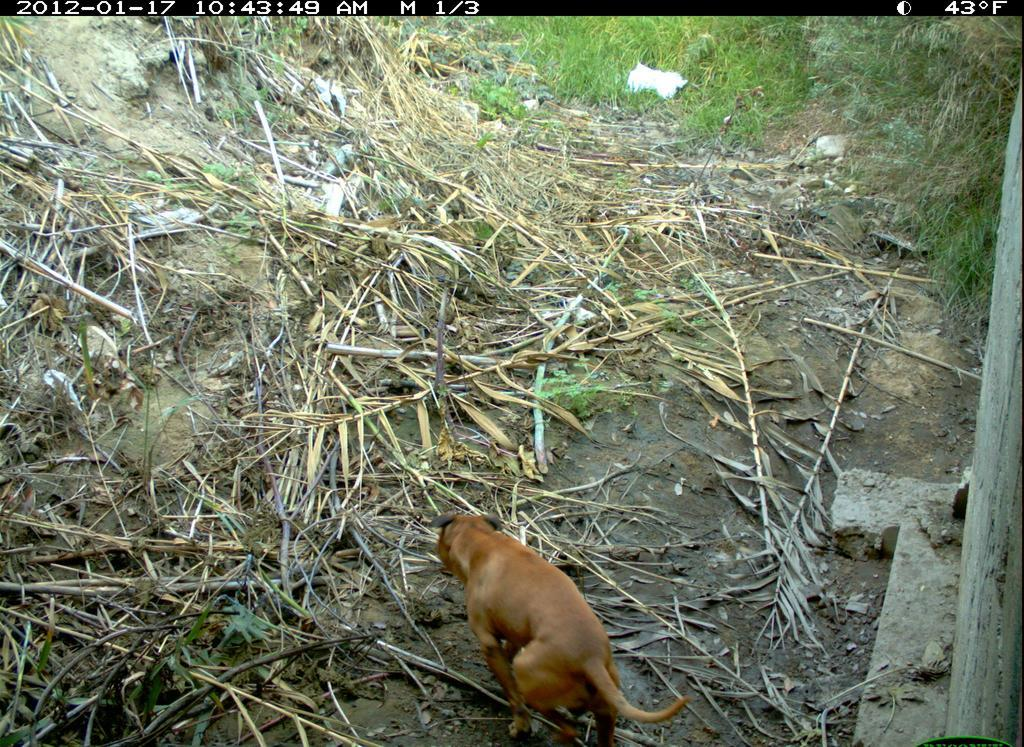dog: (413, 483, 707, 745)
